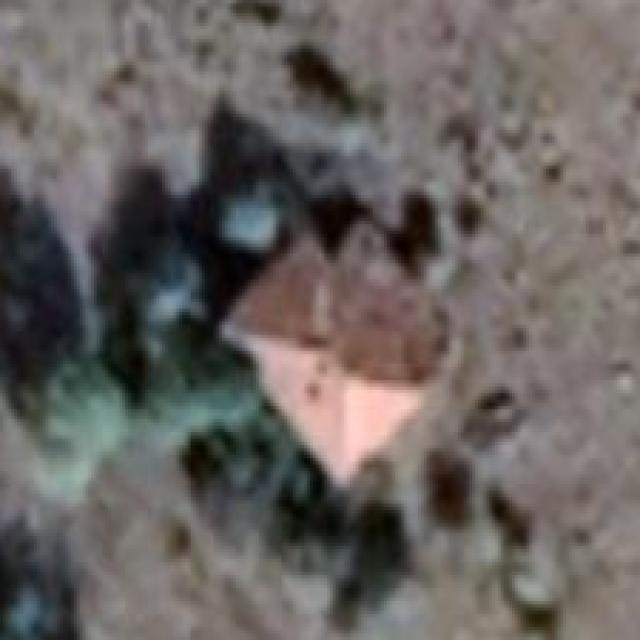Batiment: (224, 224, 445, 483)
